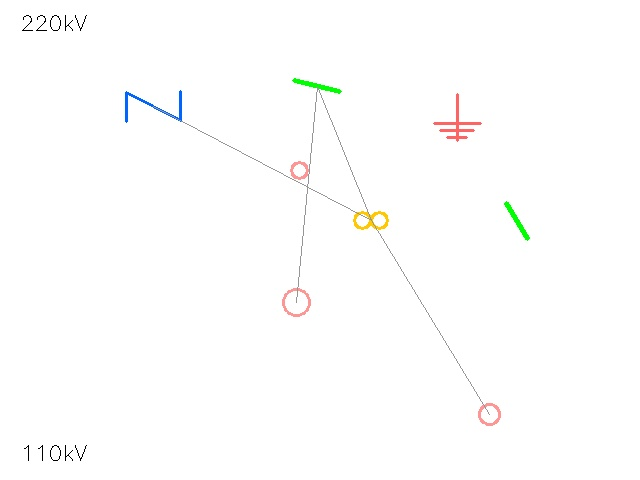busbar: (288, 57, 346, 115), (491, 195, 543, 247)
circuit_breaker: (123, 76, 183, 136)
current_transformer: (270, 276, 322, 328), (468, 393, 510, 435)
disconnect_switch: (282, 153, 316, 187)
ground: (434, 94, 480, 140)
transformer_2w: (350, 199, 392, 241)
